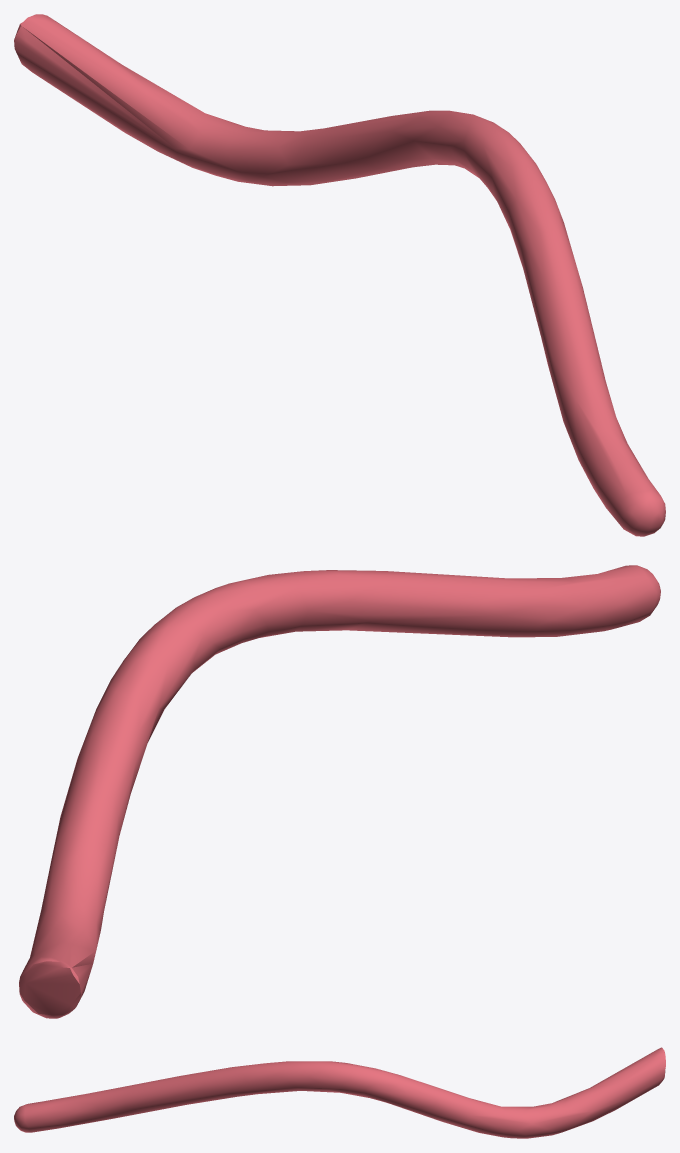
File: fma69757_fj2082.glb
3 renders of one model, top to bottom at view 1: azimuth 30°, elevation 25°; view 2: azimuth 150°, elevation 25°; view 3: azimuth 270°, elevation 25°, orthographic. The views are drawn at different scales.
Parts seen in each view (by area): view 1: FMA69757_FJ2082; view 2: FMA69757_FJ2082; view 3: FMA69757_FJ2082.
Part boxes in pixels (x1,y1,x2,y2): FMA69757_FJ2082: [14, 14, 665, 536]; FMA69757_FJ2082: [19, 565, 660, 1018]; FMA69757_FJ2082: [14, 1047, 665, 1138].
Size of the model in its own units: 0.00861 by 0.00687 by 0.0398.
